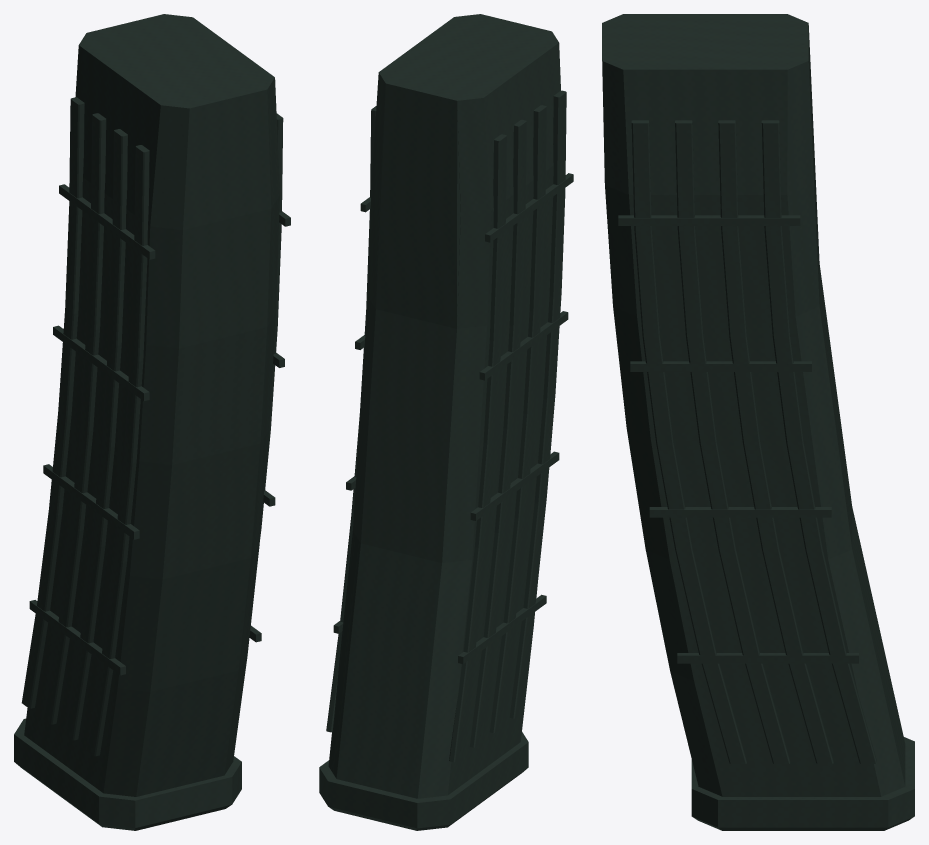
File: aug_42.glb
The picture shows the model from 3 angles, left to right: view 1: azimuth 30°, elevation 25°; view 2: azimuth 150°, elevation 25°; view 3: azimuth 270°, elevation 25°; orthographic projection. The views are drawn at different scales.
Parts seen in each view (by area): view 1: aug_42_individual_shell, aug_42_individual_shell.001; view 2: aug_42_individual_shell.001, aug_42_individual_shell; view 3: aug_42_individual_shell, aug_42_individual_shell.001.
Boxes of the visible parts, <box> form: aug_42_individual_shell: <box>14,14,290,830</box>; aug_42_individual_shell.001: <box>24,297,145,792</box>; aug_42_individual_shell.001: <box>328,83,549,798</box>; aug_42_individual_shell: <box>319,14,573,830</box>; aug_42_individual_shell: <box>602,14,914,830</box>; aug_42_individual_shell.001: <box>637,25,905,796</box>.
Size of the model in its own units: 0.0759 by 0.384 by 0.1438.
1 material, 1 textured.
